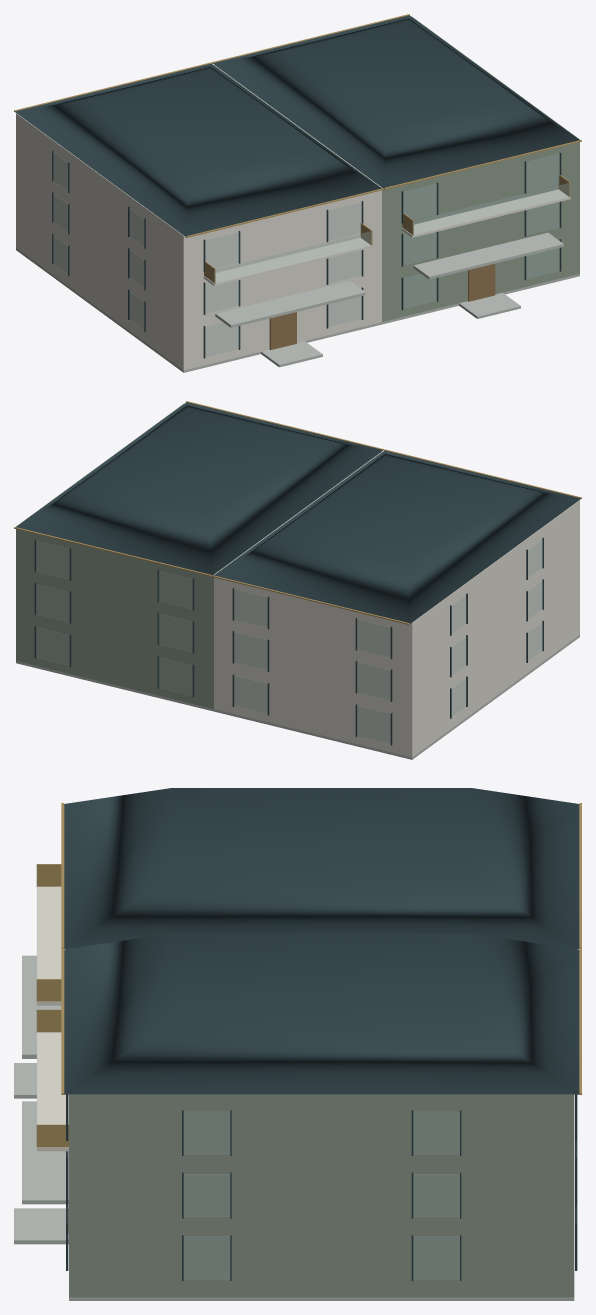
File: duplex.glb
3 views of the same model, one above another, from view 1: azimuth 30°, elevation 25°; view 2: azimuth 150°, elevation 25°; view 3: azimuth 270°, elevation 25° (orthographic). The views are drawn at different scales.
Visible parts, largest first — view 1: GC-NK-DUPLEX-dark, GC-NK-DUPLEX-white, GC-NK-DUPLEX-sage, GC-NK-DUPLEX-glass, GC-NK-DUPLEX-stone, GC-NK-DUPLEX-gold, GC-NK-DUPLEX-wood; view 2: GC-NK-DUPLEX-dark, GC-NK-DUPLEX-white, GC-NK-DUPLEX-sage, GC-NK-DUPLEX-glass, GC-NK-DUPLEX-gold, GC-NK-DUPLEX-stone; view 3: GC-NK-DUPLEX-dark, GC-NK-DUPLEX-sage, GC-NK-DUPLEX-glass, GC-NK-DUPLEX-stone, GC-NK-DUPLEX-white, GC-NK-DUPLEX-gold.
Part boxes in pixels (<box>): GC-NK-DUPLEX-dark: <box>15,15,579,358</box>; GC-NK-DUPLEX-white: <box>16,65,570,370</box>; GC-NK-DUPLEX-sage: <box>214,17,579,321</box>; GC-NK-DUPLEX-glass: <box>53,152,570,356</box>; GC-NK-DUPLEX-stone: <box>16,232,579,372</box>; GC-NK-DUPLEX-gold: <box>14,14,581,283</box>; GC-NK-DUPLEX-wood: <box>269,263,495,349</box>; GC-NK-DUPLEX-dark: <box>16,402,580,745</box>; GC-NK-DUPLEX-white: <box>214,452,579,757</box>; GC-NK-DUPLEX-sage: <box>16,404,381,708</box>; GC-NK-DUPLEX-glass: <box>36,539,542,743</box>; GC-NK-DUPLEX-gold: <box>14,401,581,624</box>; GC-NK-DUPLEX-stone: <box>16,635,579,759</box>; GC-NK-DUPLEX-dark: <box>64,788,579,1280</box>; GC-NK-DUPLEX-sage: <box>69,1094,574,1297</box>; GC-NK-DUPLEX-glass: <box>184,1112,459,1279</box>; GC-NK-DUPLEX-stone: <box>14,955,574,1300</box>; GC-NK-DUPLEX-white: <box>37,886,68,1151</box>; GC-NK-DUPLEX-gold: <box>36,803,581,1147</box>.
Size of the model in its own units: 30.24 by 12 by 24.73.
